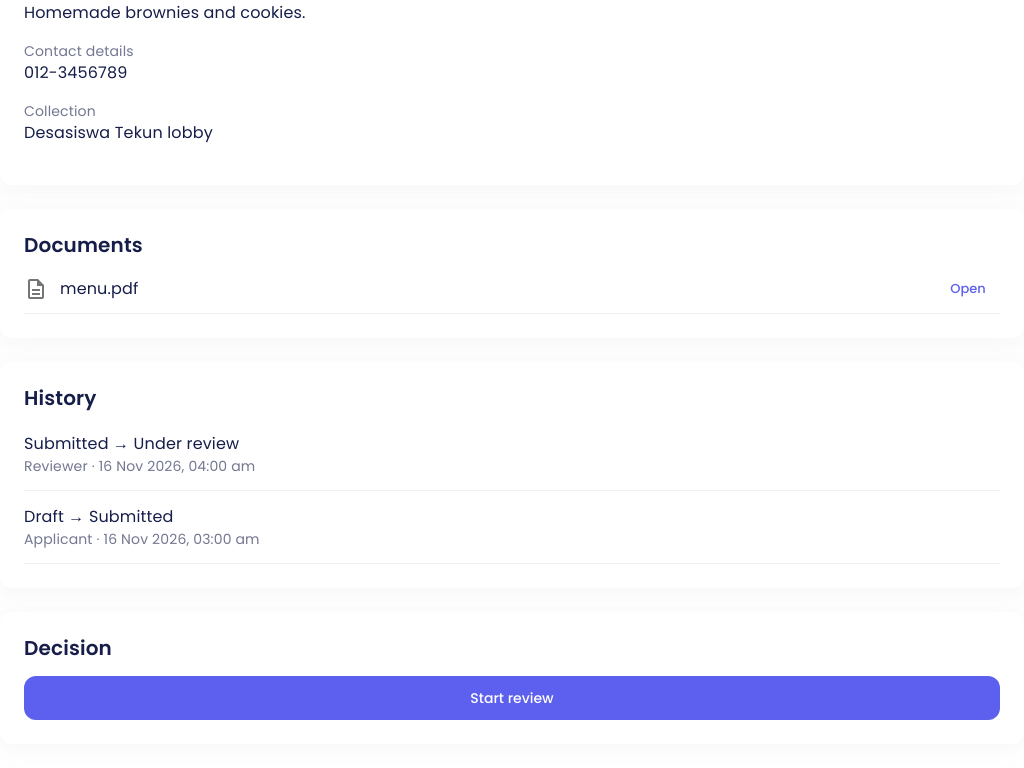
Test: ApplicationDetailPage › a submitted application can only be picked up
The width and height of the screenshot is (1024, 768).
(page scrolled)
Click the button "Start review".
click(512, 698)  # box x1=24 y1=676 x2=1000 y2=720
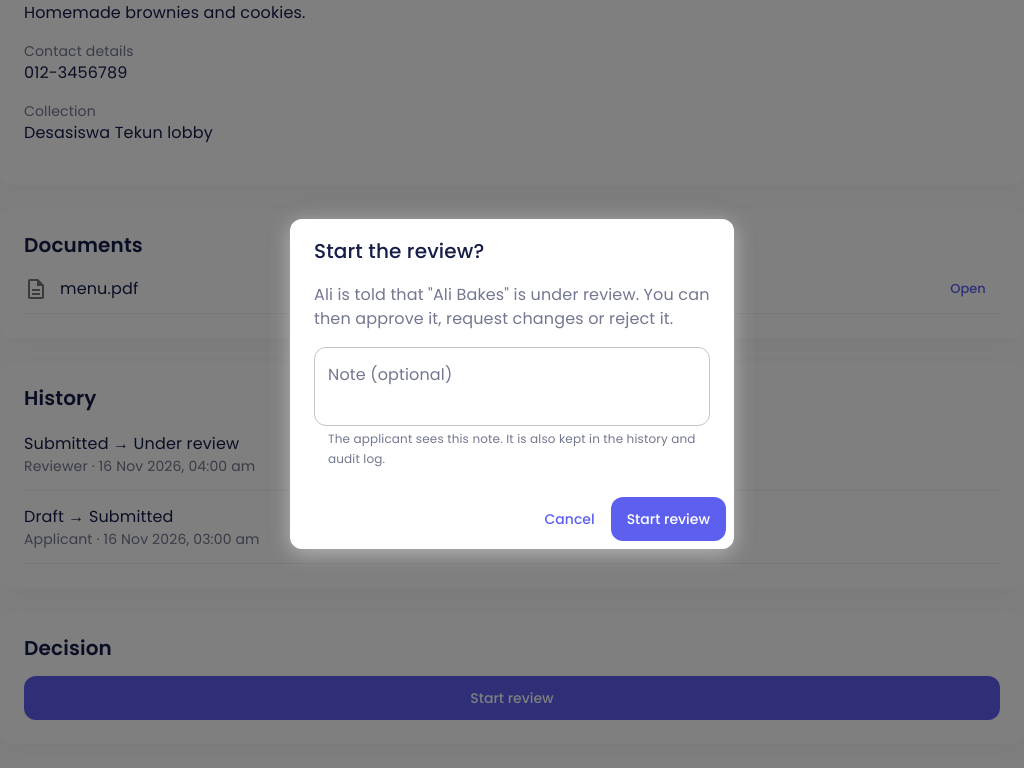
Click the button "Start review".
click(668, 519)  # box x1=611 y1=497 x2=726 y2=541
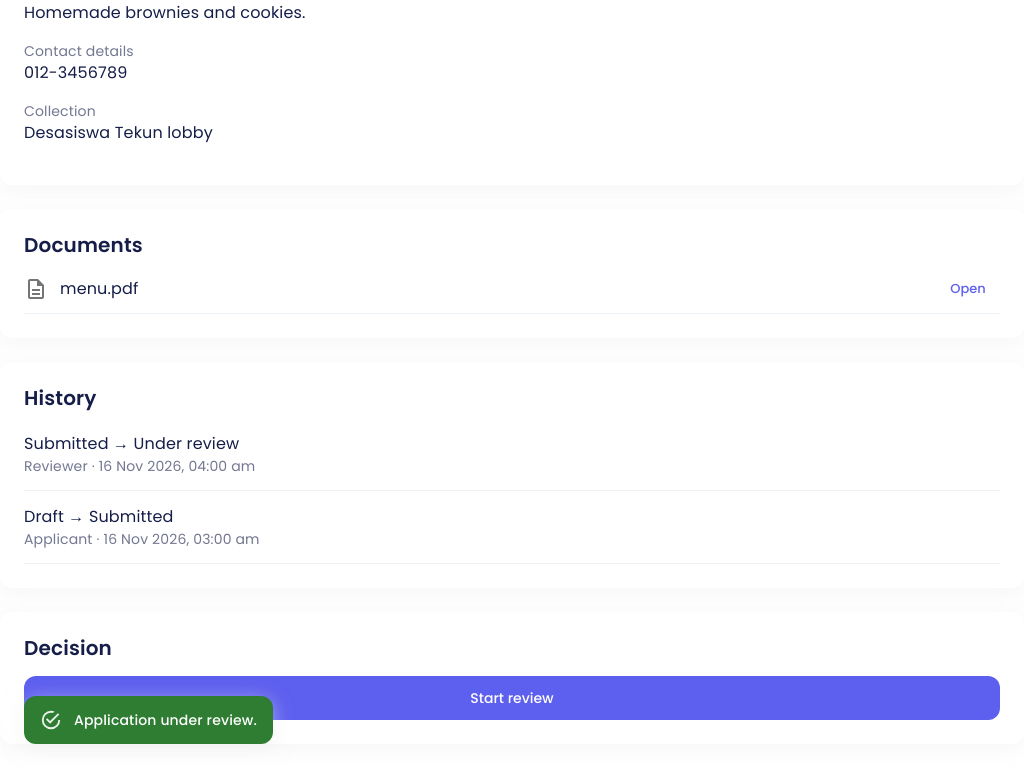
Expected: the text "approve" is gone
